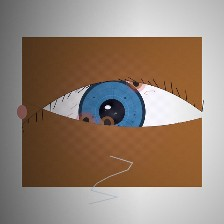foreign_body_visible: (115, 65, 157, 100)
